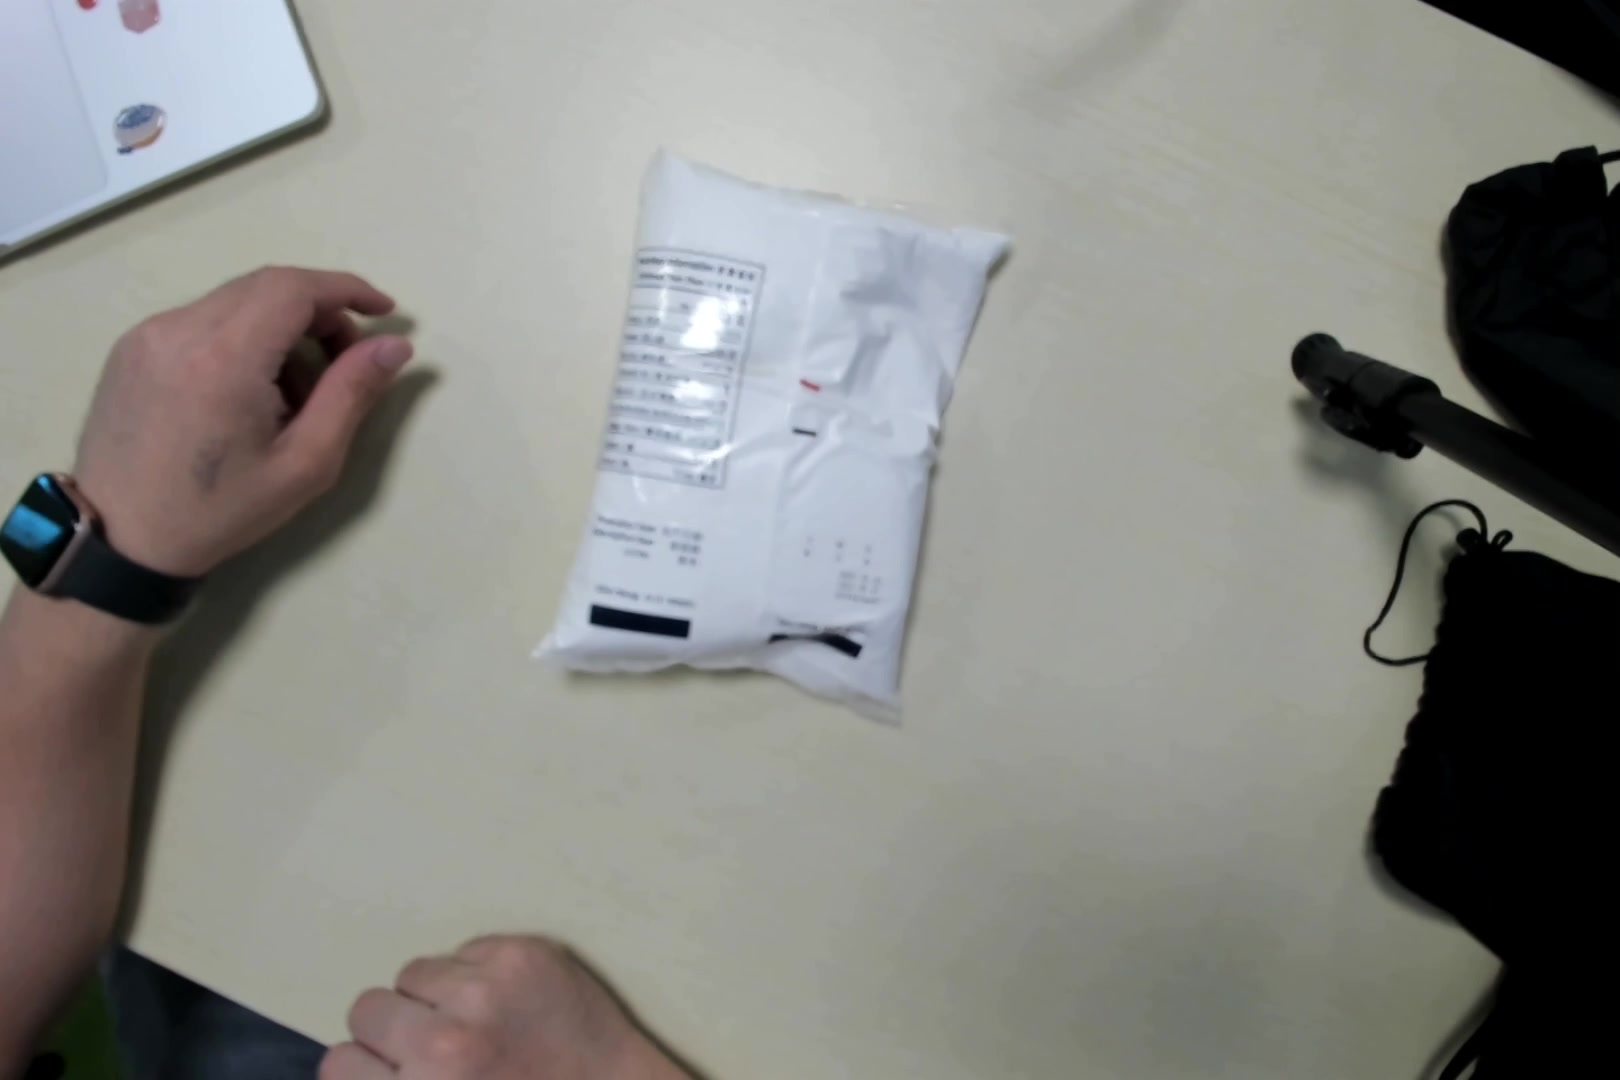OtherBakingNeeds_600-699g_Halal_NonHealthy: (538, 142, 1016, 732)
